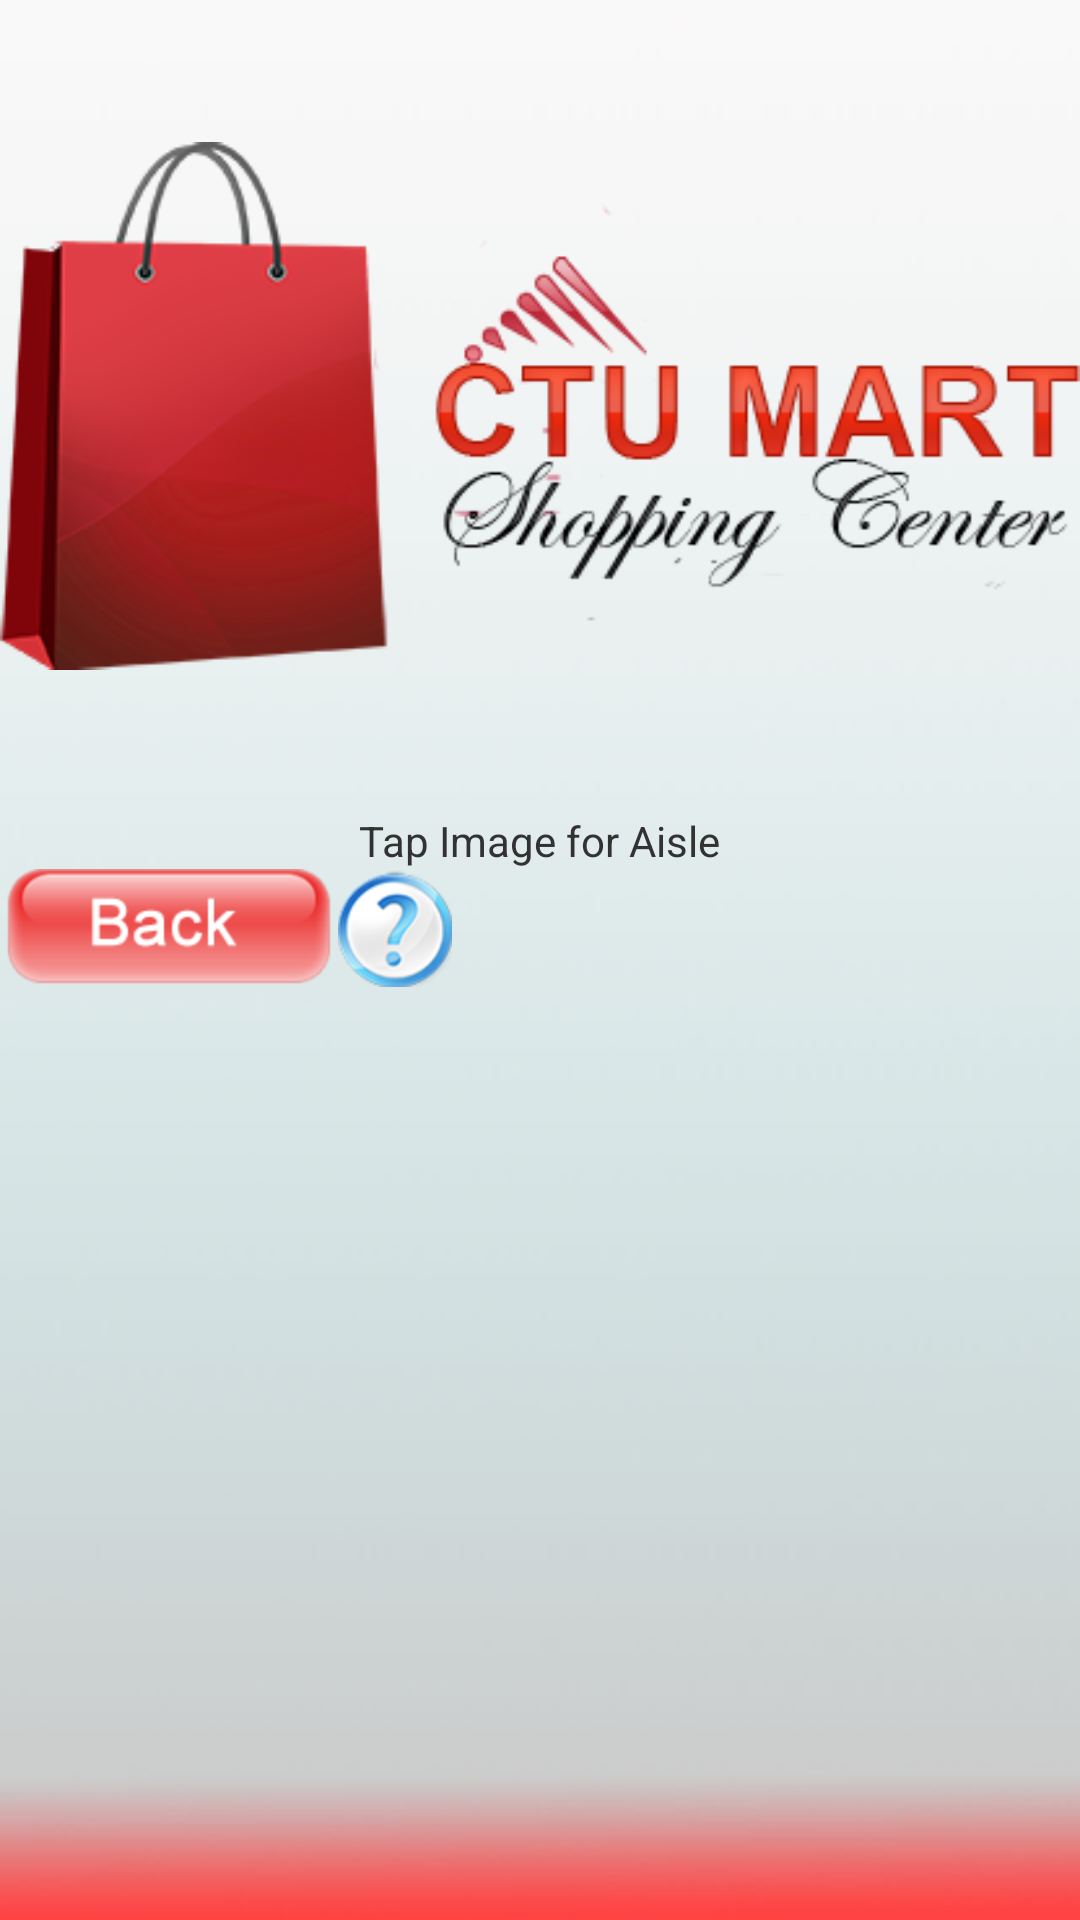

Icons on this 1080px x 1920px Android screen, each with its box as (x1, y1, x2, y2):
The Help Button: (338, 872, 452, 987)
